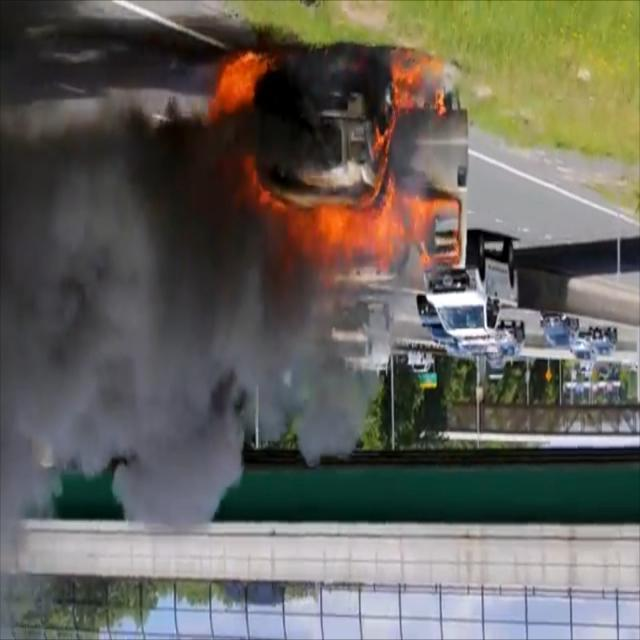fire: (206, 43, 464, 277)
